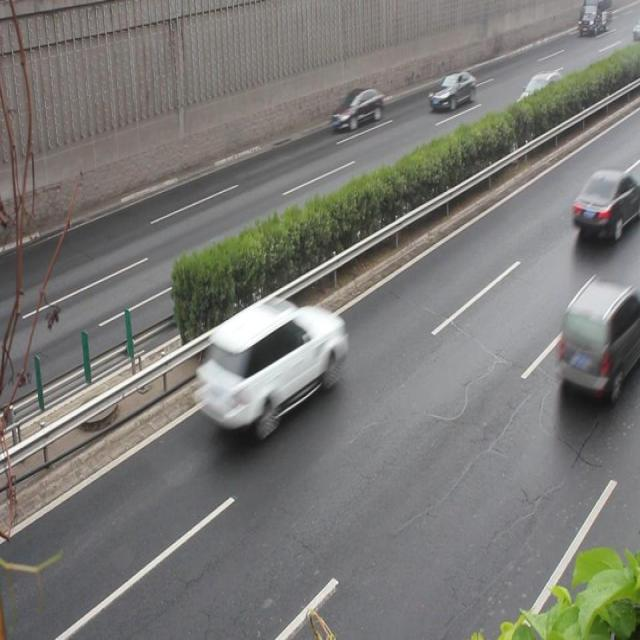car: (200, 294, 346, 430), (559, 276, 640, 401), (572, 165, 640, 240), (329, 85, 382, 131), (511, 74, 565, 118), (428, 71, 476, 113)
